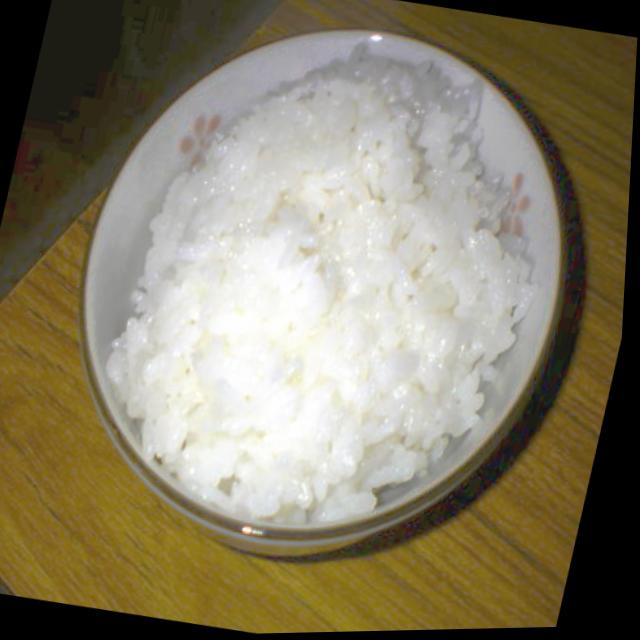rice: (72, 4, 590, 569)
